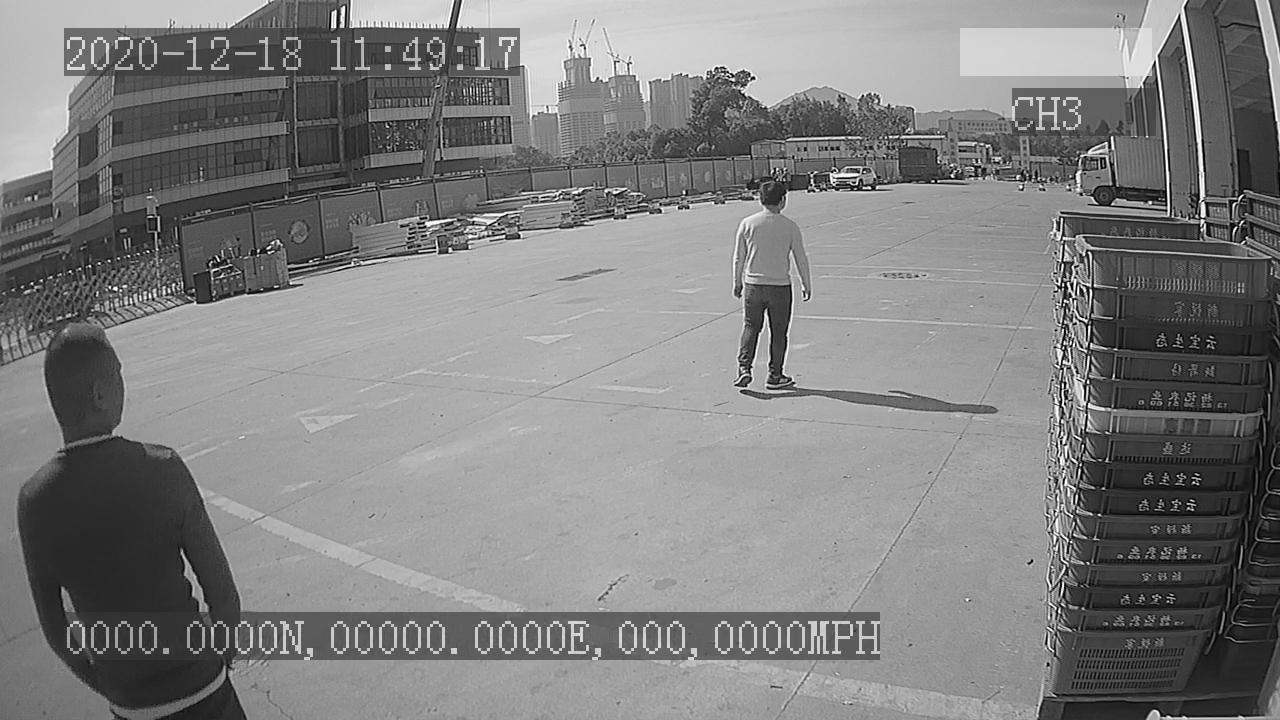person: (726, 174, 817, 397)
